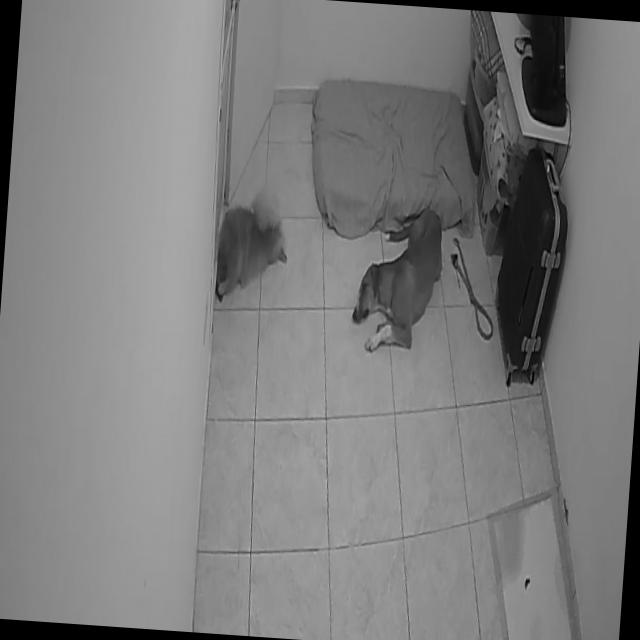laying down: (347, 195, 447, 364), (210, 182, 294, 308)
